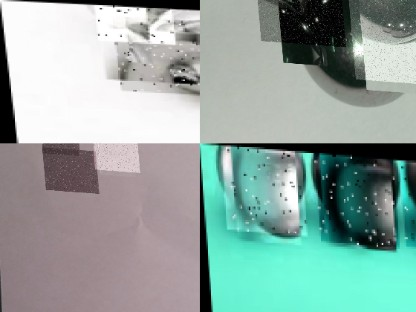ironball: (314, 59, 415, 143), (314, 151, 398, 244), (220, 144, 306, 234), (111, 15, 199, 93), (347, 0, 415, 80), (255, 0, 344, 42), (94, 3, 175, 42), (399, 156, 415, 244)
